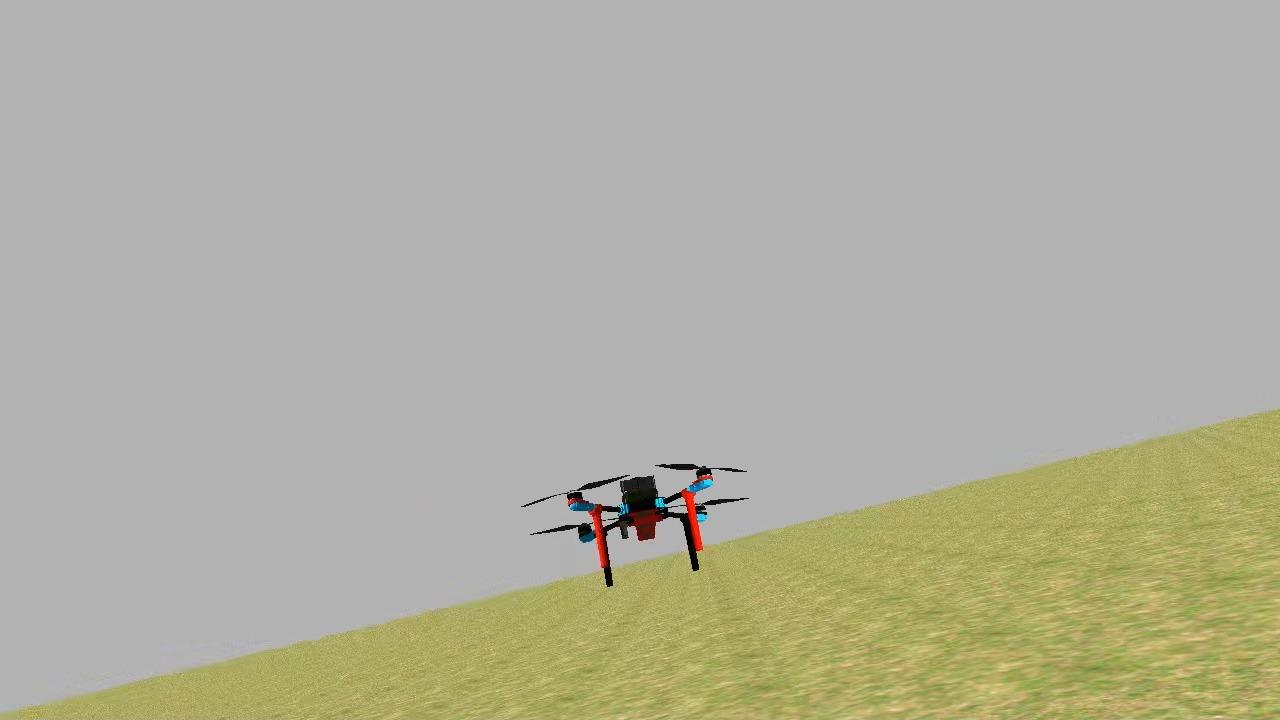UAV: (550, 460, 730, 596)
